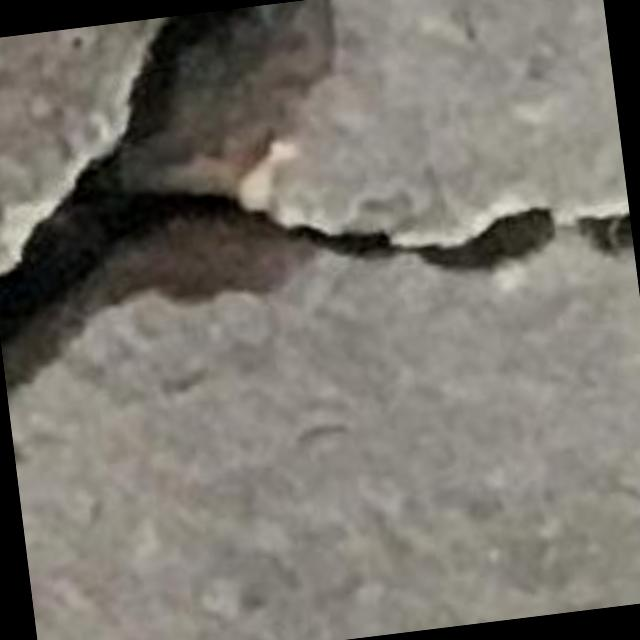crack: (0, 0, 557, 398)
